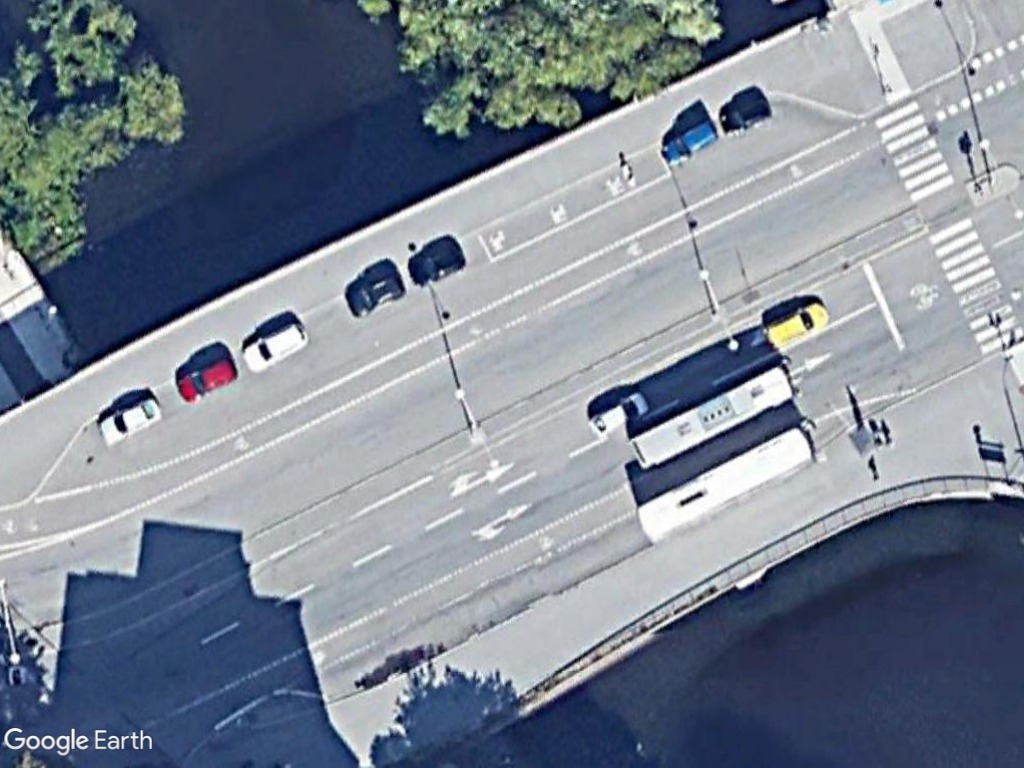bus: (622, 418, 824, 551), (623, 358, 800, 480)
car: (236, 310, 314, 378), (91, 386, 163, 451), (342, 266, 408, 323), (173, 349, 239, 405), (403, 237, 468, 289), (709, 90, 778, 137), (658, 113, 719, 164)
